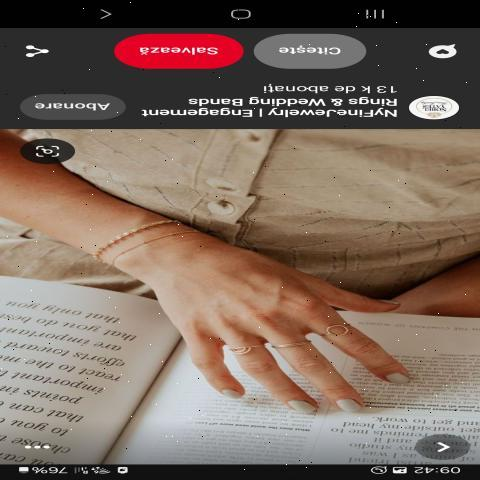Hands: (104, 197, 436, 437)
